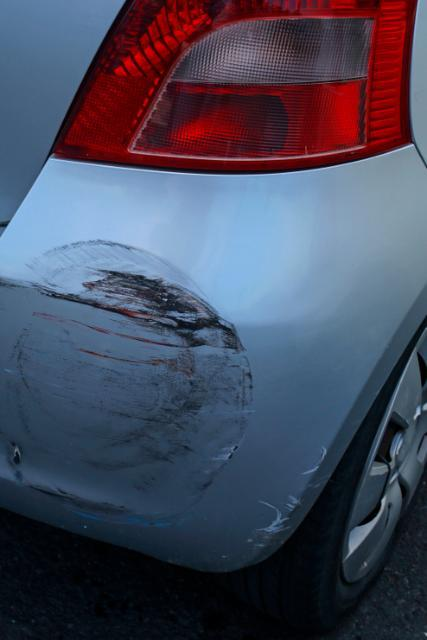Bumper: (0, 224, 341, 640)
